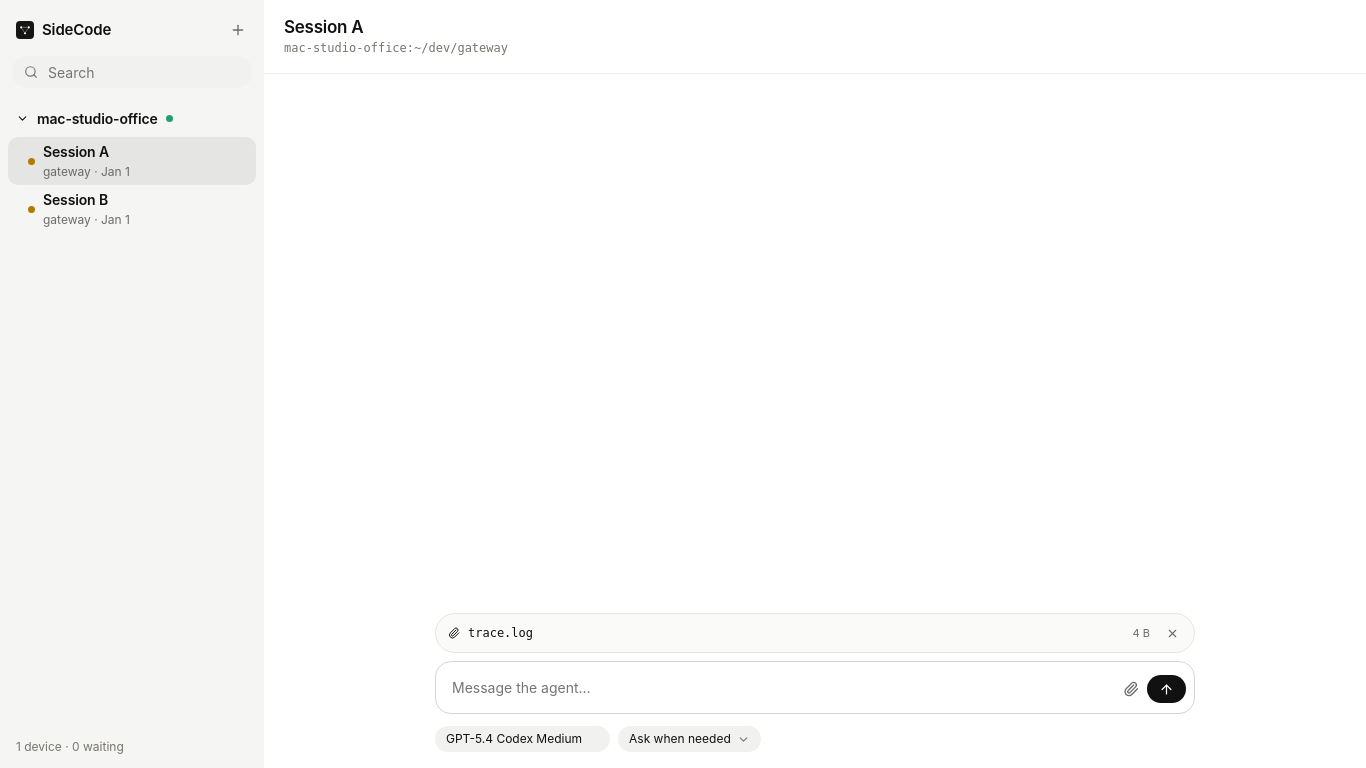
Scenario: a draft belongs to its session › keeps A’s attachments out of B and hands them back to A
Expected: the text "trace.log" is shown, [468,624,533,642]
Click the button "Session B gateway · Jan 1": point(132, 209) [8,185,256,233]
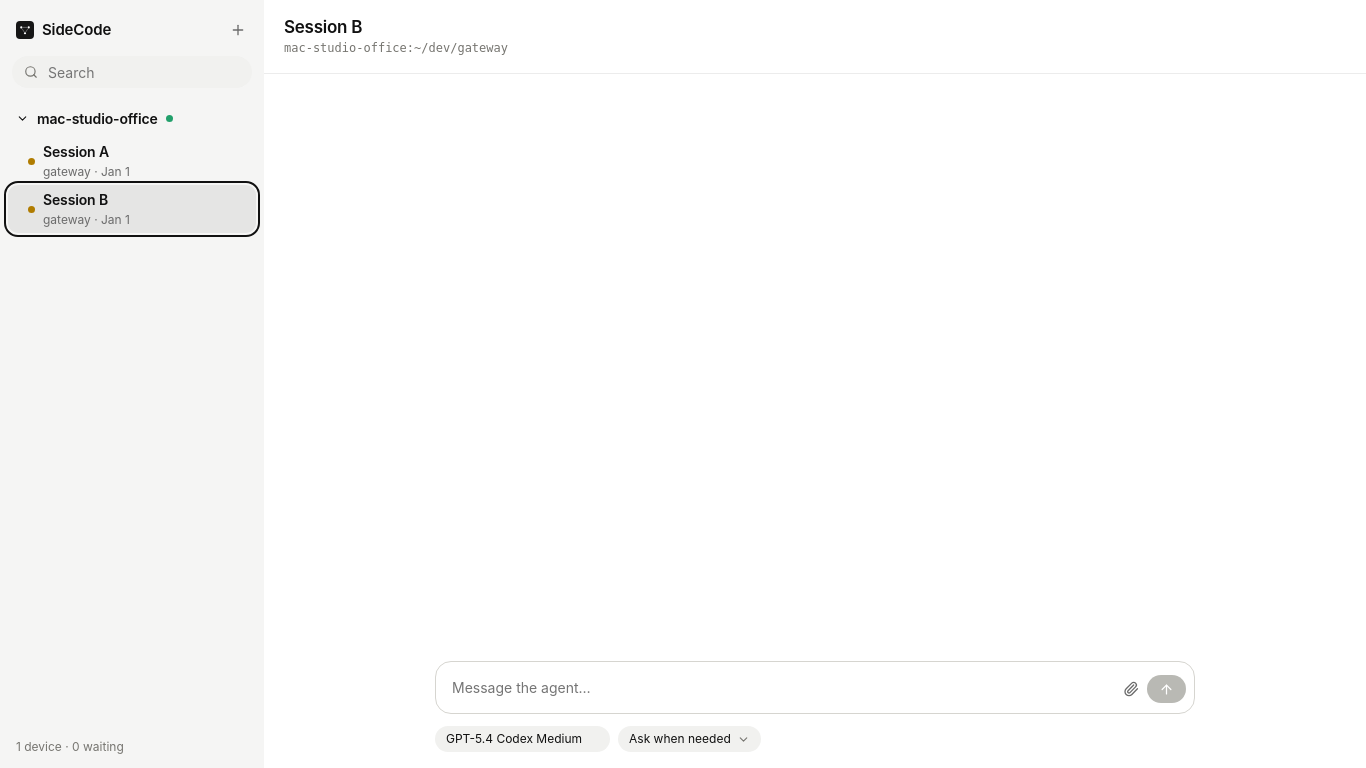
Now the text "trace.log" is gone
Click the button "Session A gateway · Jan 1": point(132, 161) [8,137,256,185]
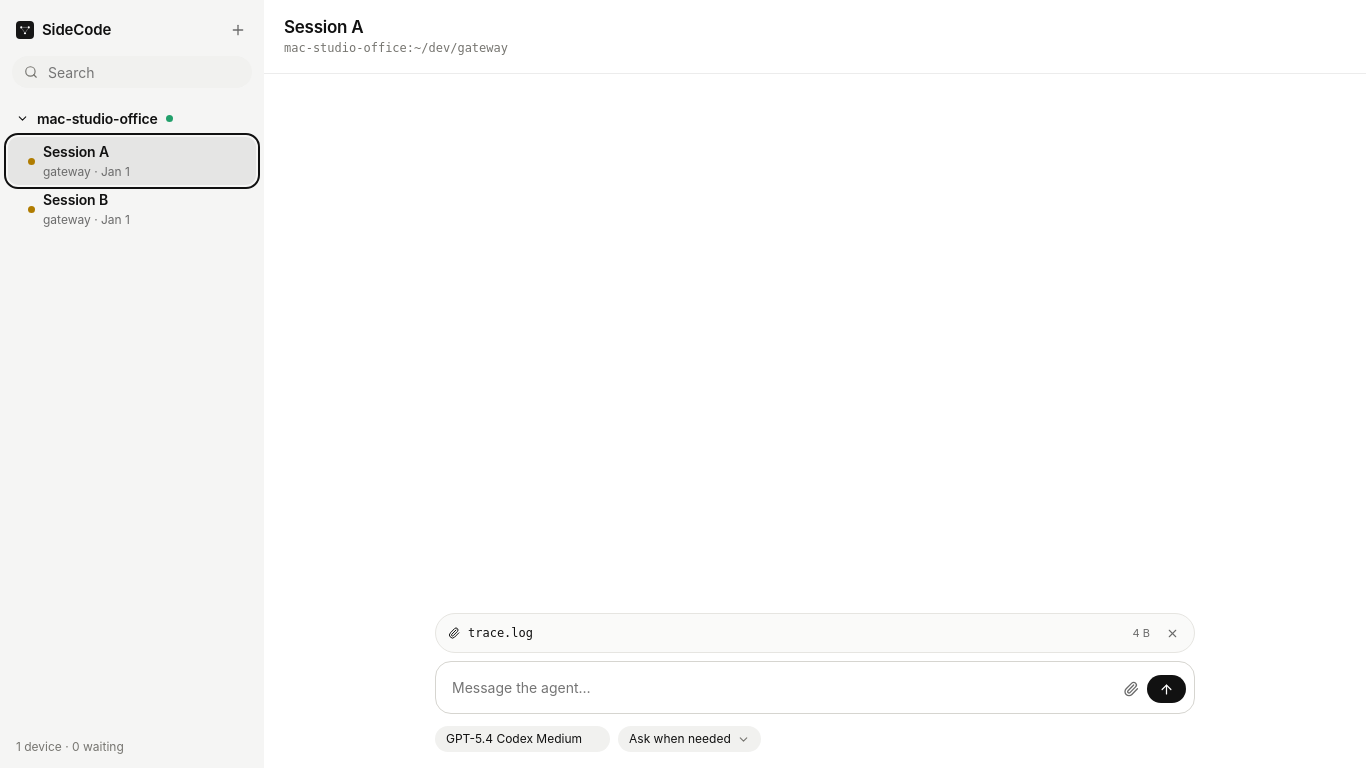
Now the text "trace.log" is shown, box [468,624,533,642]
